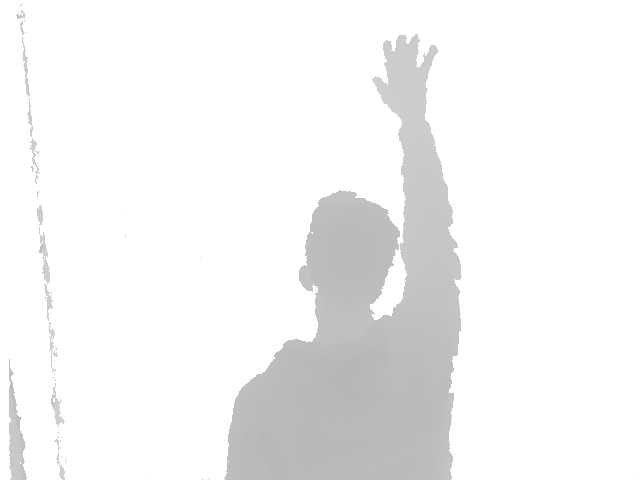hand: (370, 33, 439, 125)
head: (298, 190, 399, 320)
person: (225, 32, 462, 480)
